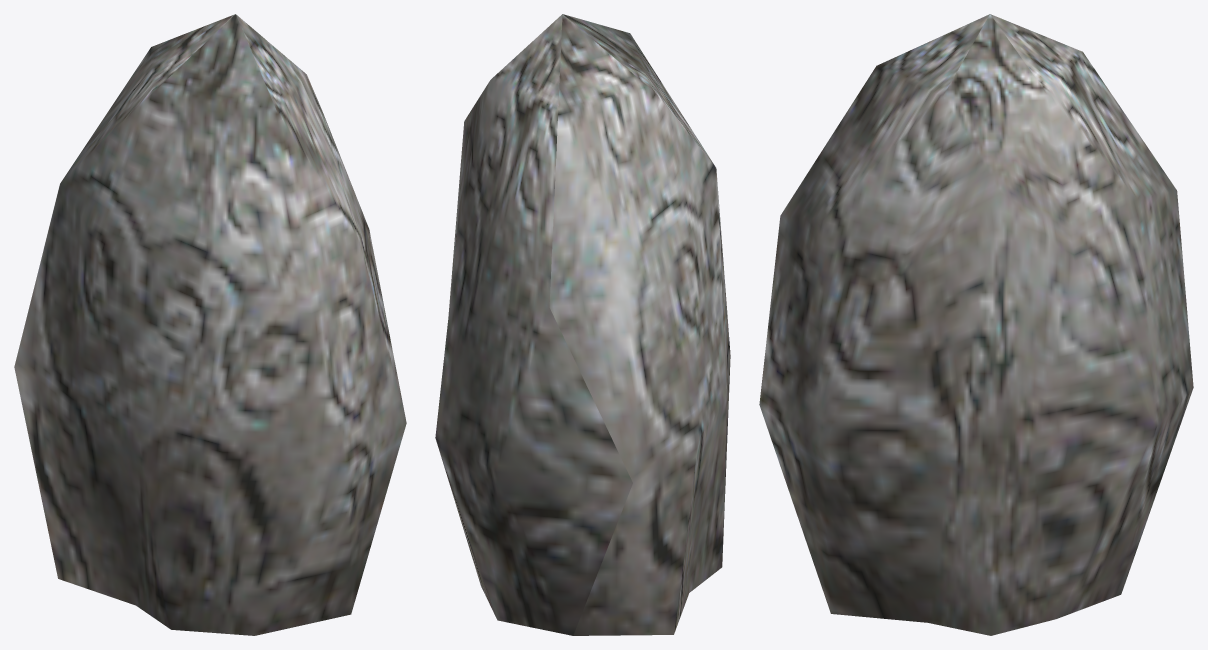
File: menhir_e.glb
The picture shows the model from 3 angles, left to right: view 1: azimuth 30°, elevation 25°; view 2: azimuth 150°, elevation 25°; view 3: azimuth 270°, elevation 25°; orthographic projection. The views are drawn at different scales.
Parts seen in each view (by area): view 1: Modelo; view 2: Modelo; view 3: Modelo.
Boxes of the visible parts, <box> form: Modelo: <box>14,14,406,635</box>; Modelo: <box>435,14,730,635</box>; Modelo: <box>759,14,1193,635</box>.
Size of the model in its own units: 0.6282 by 1.35 by 0.9161.
Materials: 1 (1 with a texture image).
